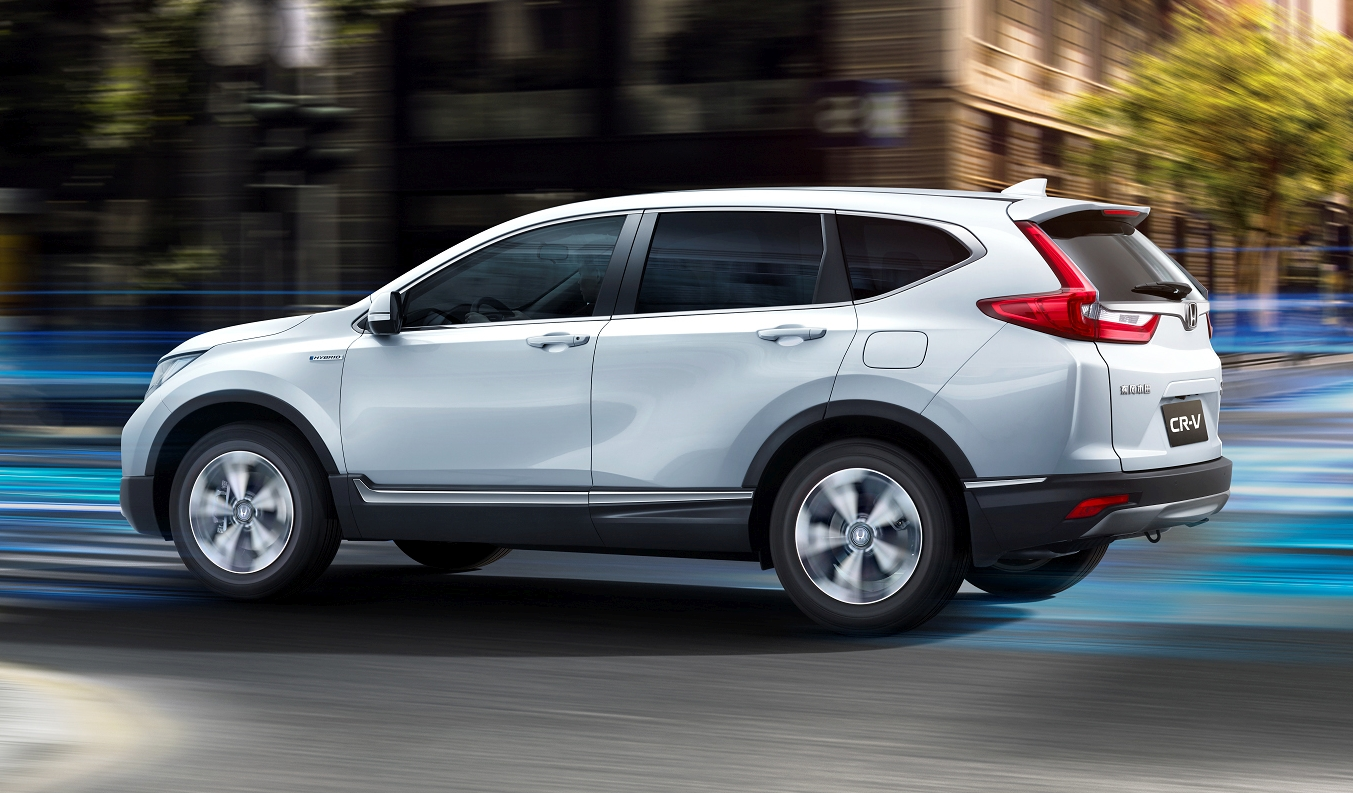crv: (102, 168, 1250, 635)
